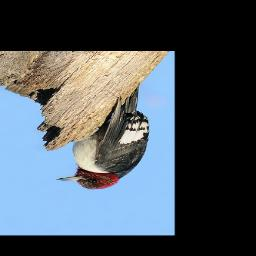Woodpecker: (55, 87, 150, 190)
